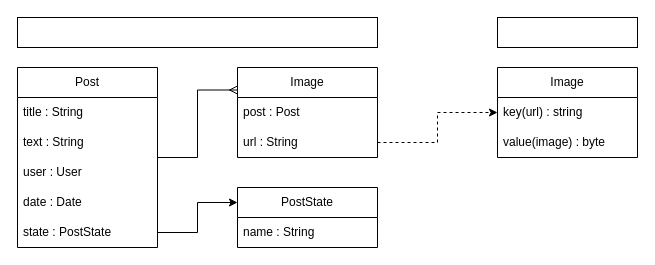
Some shapes in this 655 by 265 pixel diagram are drawn without their labels. The shapes that lost their labels are listed below. From the top down, each one's centre as x and y in pixels, then its label:
At (x=197, y=32): "POSTGRES DB".
At (x=567, y=32): "S3 STORAGE".
